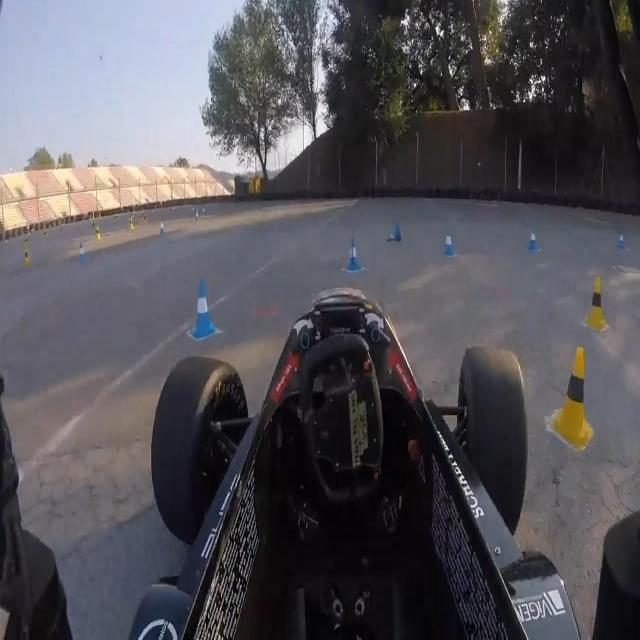blue_cone: (190, 277, 217, 341), (344, 233, 362, 273), (385, 220, 404, 246), (444, 230, 455, 259), (77, 240, 87, 267), (616, 226, 626, 252), (527, 226, 537, 251), (159, 218, 166, 237), (195, 210, 199, 222)
yellow_cone: (548, 343, 598, 456), (583, 275, 607, 335), (95, 224, 102, 240), (24, 247, 30, 265), (23, 238, 31, 251), (129, 216, 135, 231), (44, 229, 48, 240)
